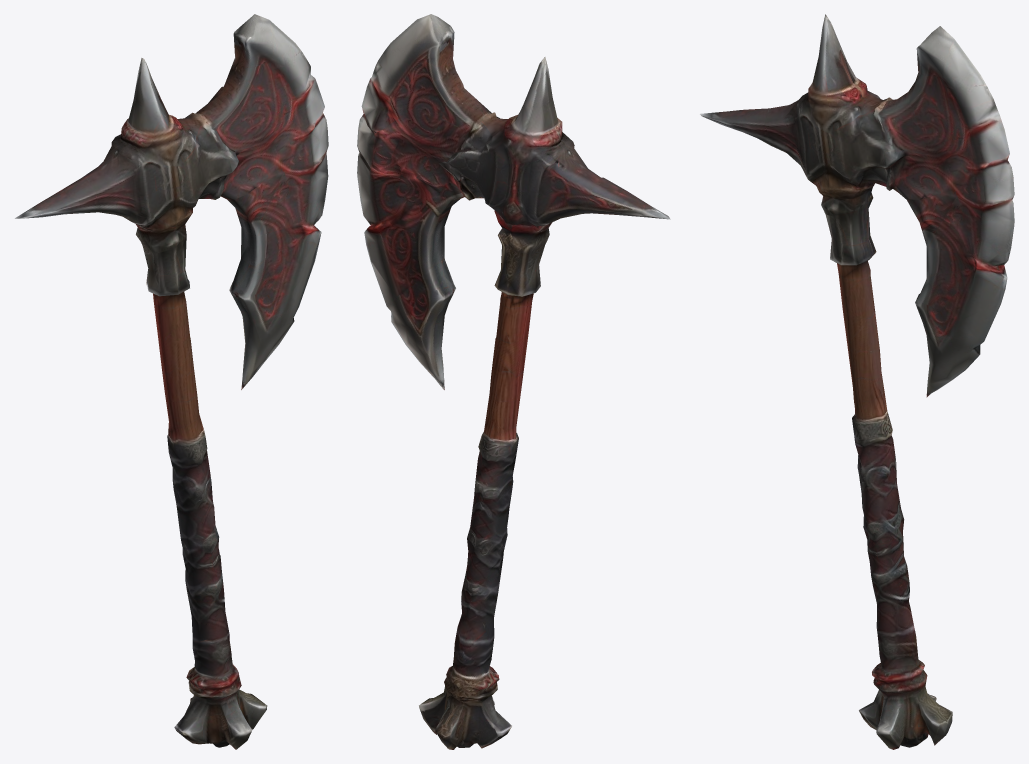
Rendered from 1402_war_axe.glb.
3 views of the same model, side by side, from view 1: azimuth 30°, elevation 25°; view 2: azimuth 150°, elevation 25°; view 3: azimuth 330°, elevation 25° (orthographic).
Visible parts, largest first — view 1: Model; view 2: Model; view 3: Model.
Boxes of the visible parts, x1,y1,x2,y2 form: Model: (15,14,328,749); Model: (357,14,670,749); Model: (700,14,1014,749).
Bounding box in the file's own units: 0.4535 × 1 × 0.1268.
Materials: 1 (1 with a texture image).
